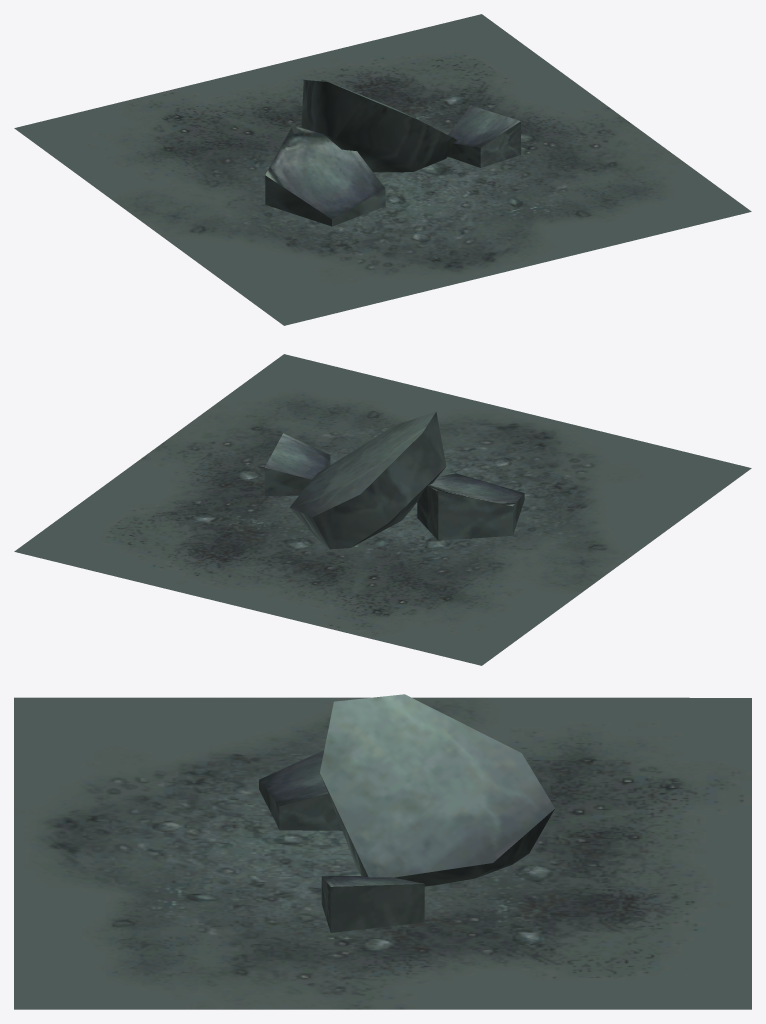
Rendered from crypt_rubble_01.fbx.
3 views of the same model, one above another, from view 1: azimuth 30°, elevation 25°; view 2: azimuth 150°, elevation 25°; view 3: azimuth 270°, elevation 25° (orthographic). The views are drawn at different scales.
Visible parts, largest first — view 1: crypt_rubble_01-0; view 2: crypt_rubble_01-0; view 3: crypt_rubble_01-0.
Part boxes in pixels (box(x1,y1,x2,y2)): crypt_rubble_01-0: box(14, 14, 751, 325); crypt_rubble_01-0: box(14, 354, 751, 665); crypt_rubble_01-0: box(14, 694, 751, 1009).
Bounding box in the file's own units: 4 × 1.11 × 4.
